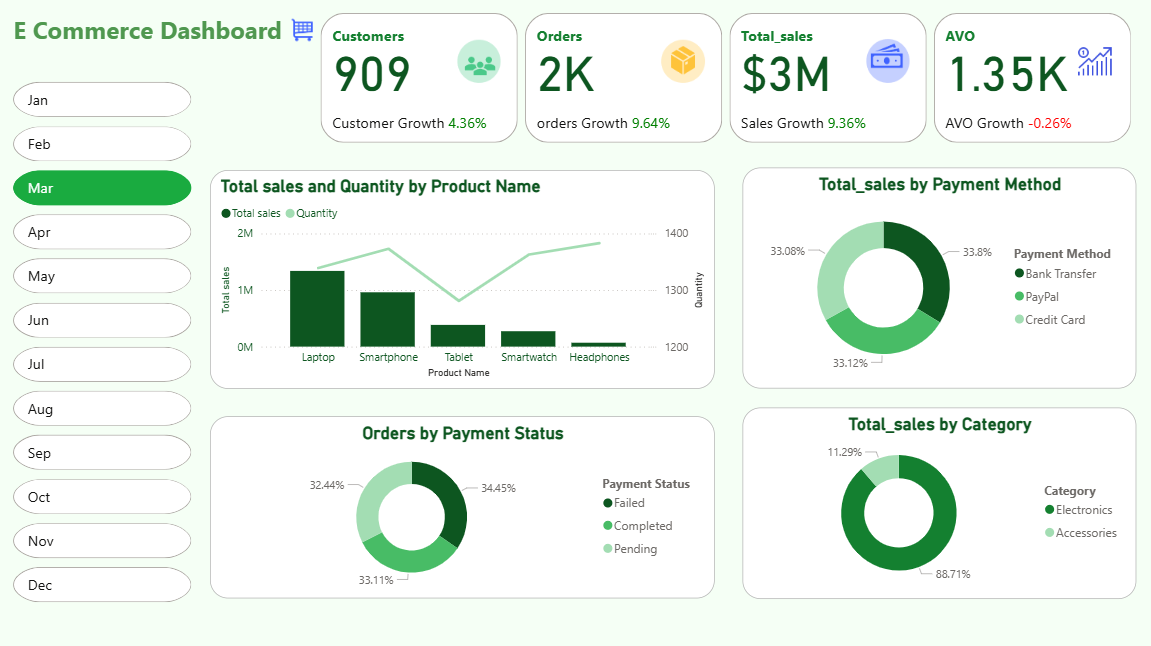

The dashboard page shown, as its layout file describes it:
{"tool":"powerbi","page":{"name":"Page 1","canvas":[1280,720],"ordinal":0},"visuals":[{"type":"textbox","box":[9.7,9.7,359.7,280.6],"z":0},{"type":"advancedSlicerVisual","fields":{"Values":["Dim_date.Month"]},"box":[9.7,86.1,208.3,597.2],"z":1000},{"type":"cardVisual","fields":{"Data":["Measures (2).#Customers","Measures (2).#Orders","Measures (2).Total_sales","Measures (2).Avo"]},"box":[351.4,9.7,911.1,154.2],"z":2000},{"type":"image","box":[316.7,9.7,40.3,47.2],"z":3000},{"type":"donutChart","fields":{"Category":["dim_payment.Payment Method"],"Y":["Measures (2).Total_sales"]},"box":[825,186.1,437.5,245.8],"z":4000},{"type":"lineClusteredColumnComboChart","fields":{"Category":["Dim_product.Product Name"],"Y":["Measures (2).Total_sales"],"Y2":["Measures (2).Quantity"]},"box":[233.3,188.9,561.1,243.1],"z":5000},{"type":"donutChart","fields":{"Category":["Dim_product.Category"],"Y":["Measures (2).Total_sales"]},"box":[825,452.8,437.5,212.5],"z":6000},{"type":"donutChart","title":"Orders by Payment Status","fields":{"Category":["payment_status.Payment Status"],"Y":["Measures (2).#Orders"]},"box":[233.3,462.5,561.1,202.8],"z":7000}]}

Visuals, with their boxes in screenshot pixels (x1, y1, x2, y2), scaled from the page's 1280x720 canvas onto the 1151x646 screenshot:
textbox: {"left": 9, "top": 9, "right": 332, "bottom": 260}
advancedSlicerVisual - Dim_date.Month: {"left": 9, "top": 77, "right": 196, "bottom": 613}
cardVisual - Measures (2).#Customers x Measures (2).#Orders: {"left": 316, "top": 9, "right": 1135, "bottom": 147}
image: {"left": 285, "top": 9, "right": 321, "bottom": 51}
donutChart - dim_payment.Payment Method x Measures (2).Total_sales: {"left": 742, "top": 167, "right": 1135, "bottom": 388}
lineClusteredColumnComboChart - Dim_product.Product Name x Measures (2).Total_sales: {"left": 210, "top": 169, "right": 714, "bottom": 388}
donutChart - Dim_product.Category x Measures (2).Total_sales: {"left": 742, "top": 406, "right": 1135, "bottom": 597}
"Orders by Payment Status" donutChart: {"left": 210, "top": 415, "right": 714, "bottom": 597}
